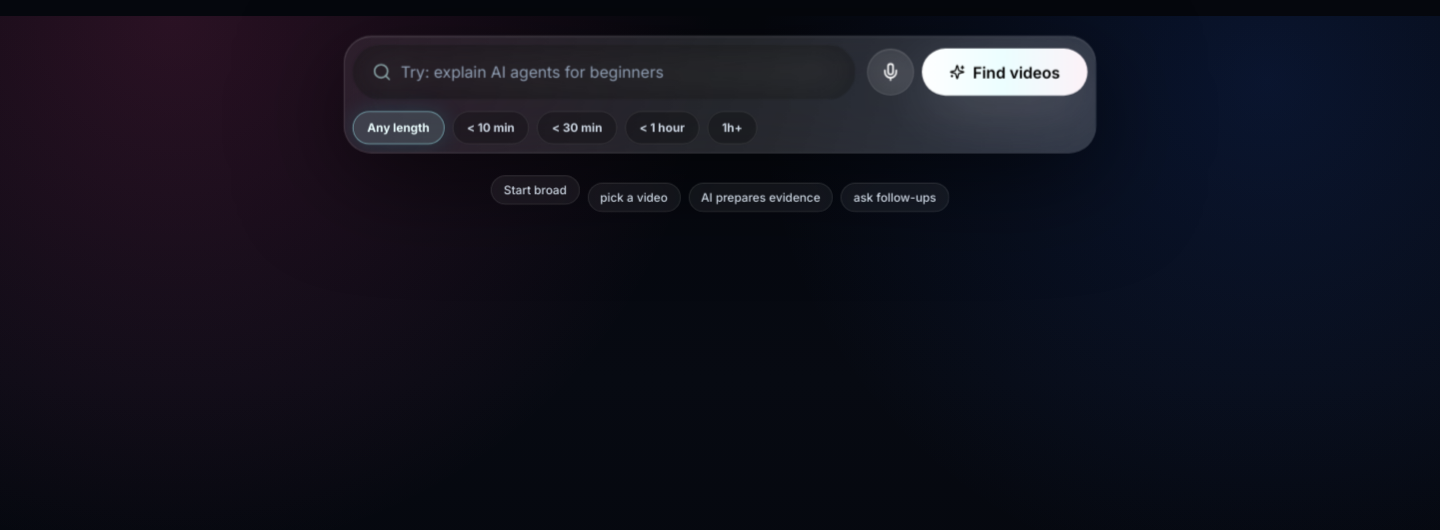
Test: SearchConsole – voice input › Web Speech API › shows "AI listening" feedback strip when recognition starts
The width and height of the screenshot is (1440, 530).
Click the button named "start voice search" at (890, 72), box [867,48,914,95]
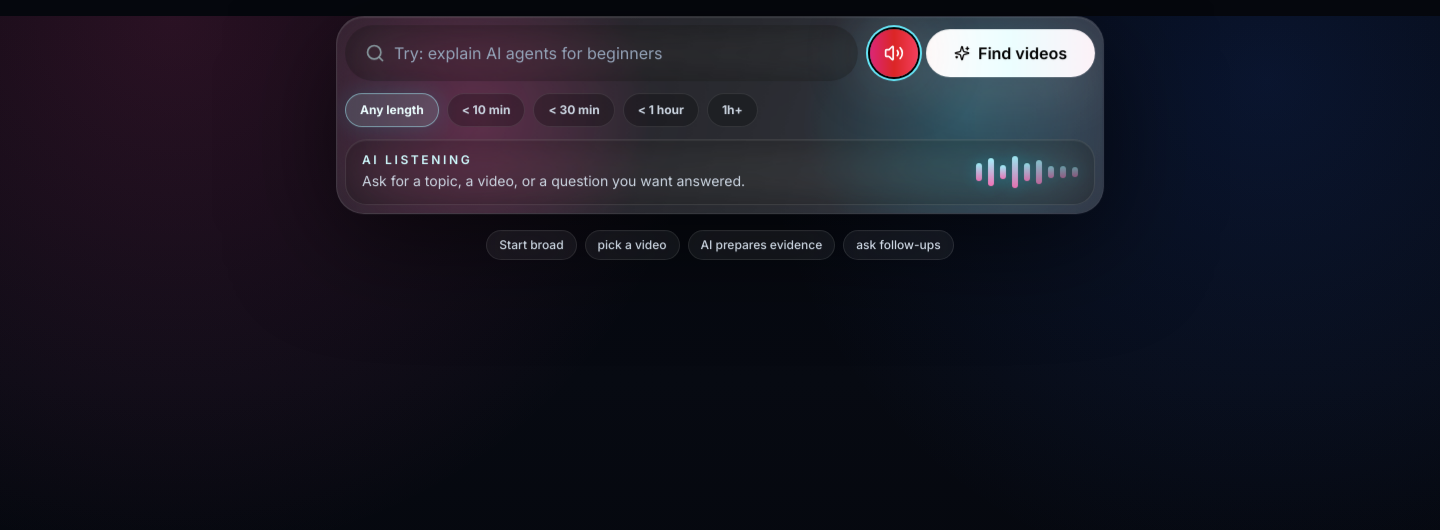
Now the text "AI listening" is shown, box [362,152,472,167]
